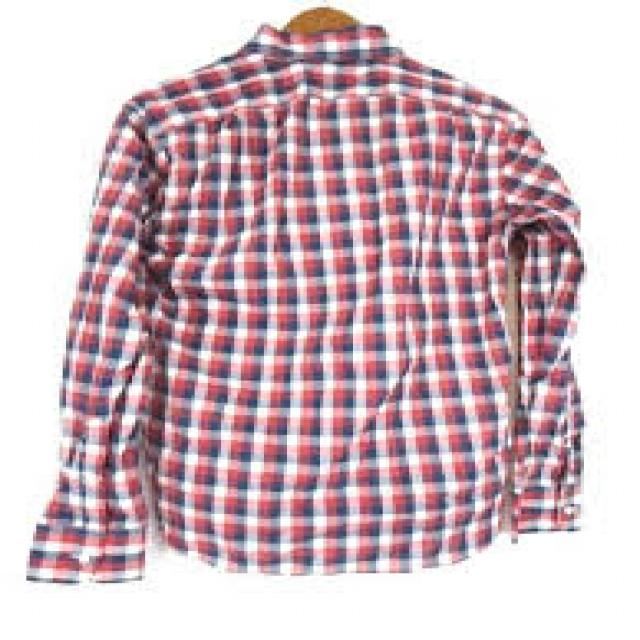plaid: (34, 38, 600, 590)
